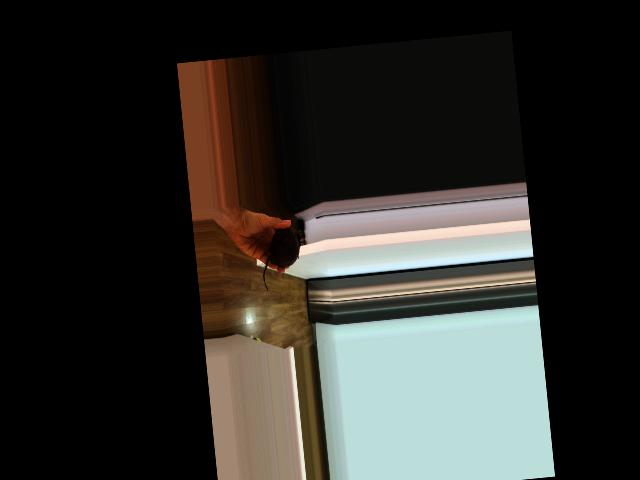beet: (258, 227, 305, 291)
